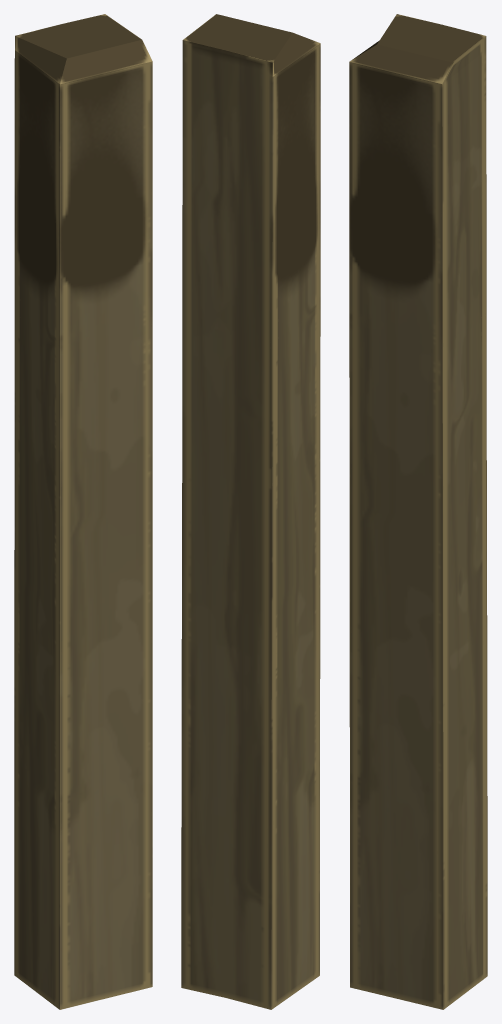
Rendered from SM_Beam.fbx.
3 views of the same model, side by side, from view 1: azimuth 30°, elevation 25°; view 2: azimuth 150°, elevation 25°; view 3: azimuth 330°, elevation 25° (orthographic).
Visible parts, largest first — view 1: BeamVer_low.010; view 2: BeamVer_low.010; view 3: BeamVer_low.010.
Boxes of the visible parts, x1,y1,x2,y2 form: BeamVer_low.010: [14, 14, 152, 1009]; BeamVer_low.010: [181, 14, 320, 1009]; BeamVer_low.010: [349, 14, 487, 1009].
Bounding box in the file's own units: 0.6313 × 6.07 × 0.5538.
